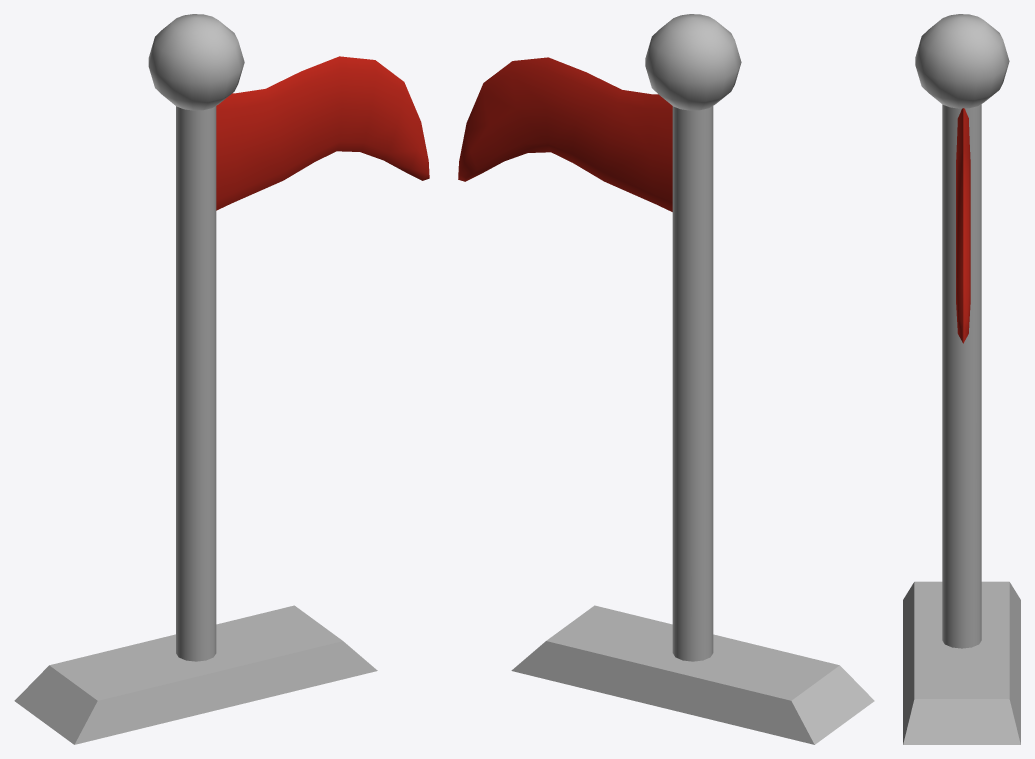
File: Goal_Flag.glb
3 renders of one model, left to right at view 1: azimuth 30°, elevation 25°; view 2: azimuth 150°, elevation 25°; view 3: azimuth 270°, elevation 25°, orthographic. The views are drawn at different scales.
Parts seen in each view (by area): view 1: Goal_Flag; view 2: Goal_Flag; view 3: Goal_Flag.
Part boxes in pixels (x1=…): Goal_Flag: x1=14, y1=14, x2=429, y2=744; Goal_Flag: x1=458, y1=14, x2=874, y2=744; Goal_Flag: x1=903, y1=14, x2=1020, y2=744.
Bounding box in the file's own units: 1.41 × 2.33 × 0.3804.
